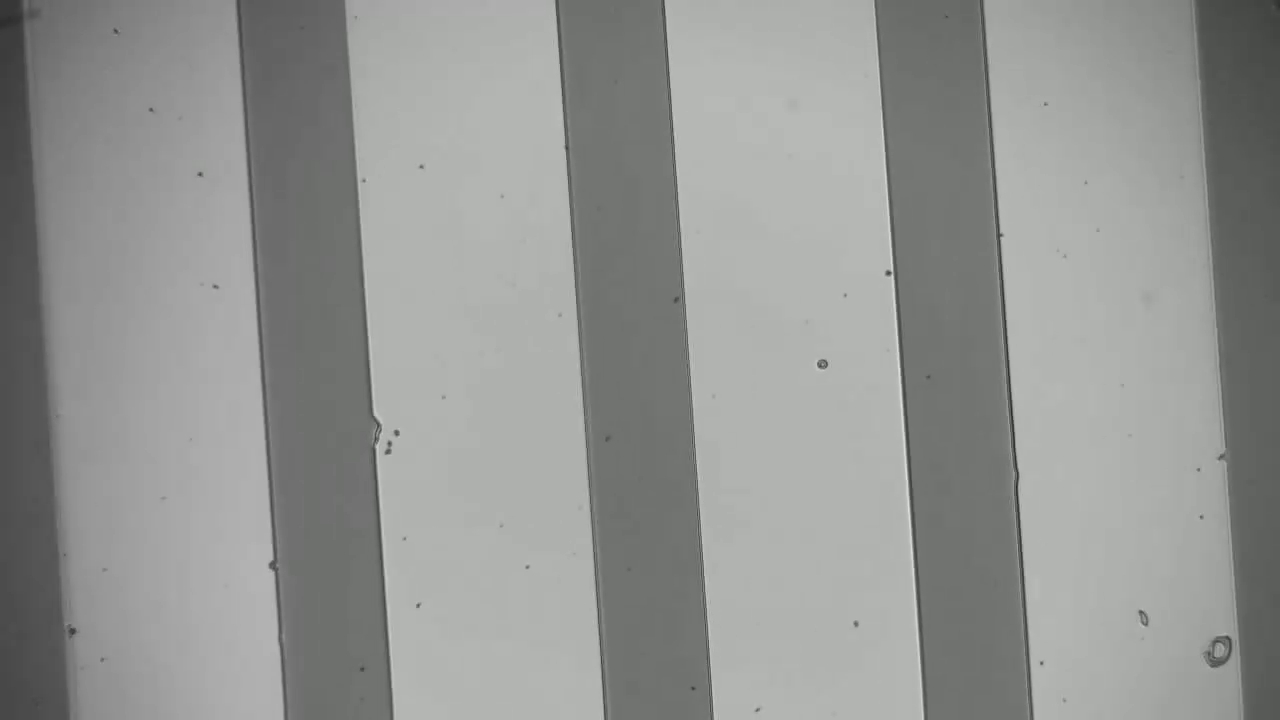edge_bite: (360, 409, 397, 451)
